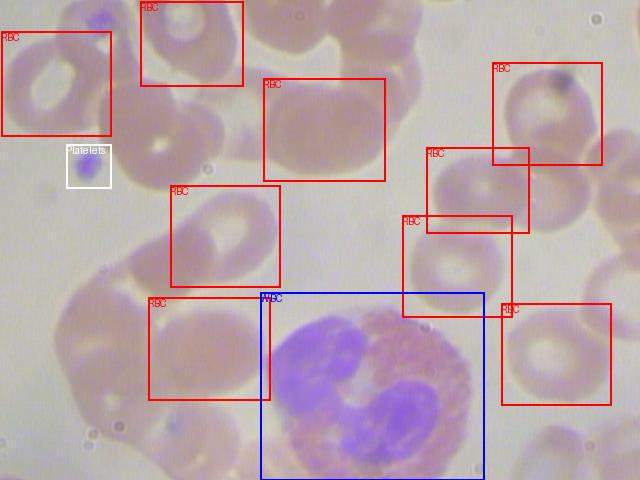Platelets: (66, 144, 111, 188)
RBC: (148, 297, 270, 400), (263, 78, 385, 181), (1, 31, 111, 136), (492, 62, 602, 165), (170, 185, 280, 287), (402, 215, 512, 317), (501, 303, 611, 405), (426, 147, 529, 233), (140, 1, 243, 86)
WBC: (260, 292, 484, 480)
